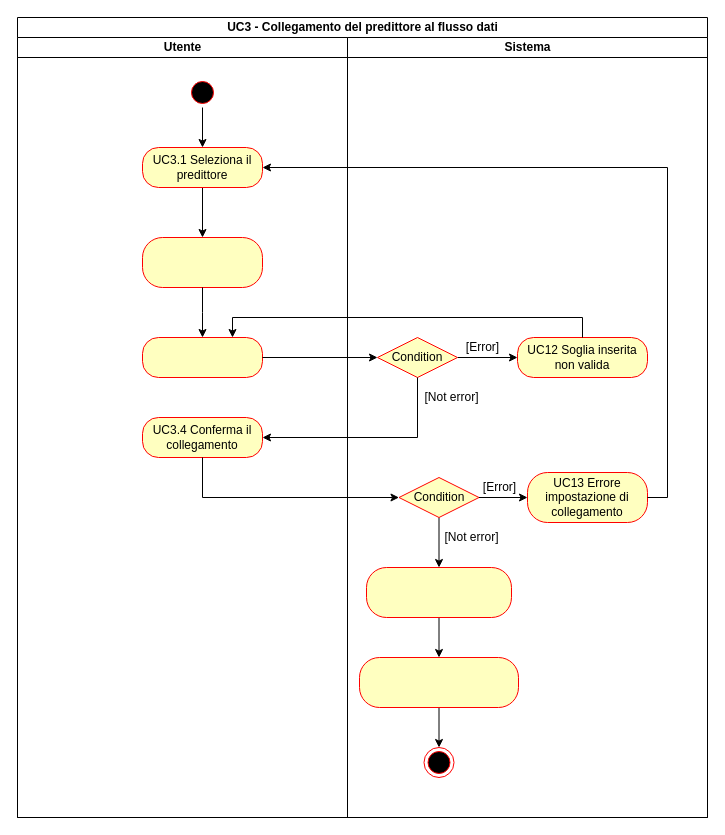
Some shapes in this 725 by 835 pixel diagram are drawn without their labels. The shapes that lost their labels are listed below. From the top down, each one's centre as x and y in pixels, then its label:
(202,262): UC3.2 Seleziona nodo del flusso dati
(202,357): UC3.3 Imposta le soglie
(439,592): UC3.5 Collegamento avvenuto con successo
(438,682): UC3.6 Visualizzazione pannello lista dei collegamenti
